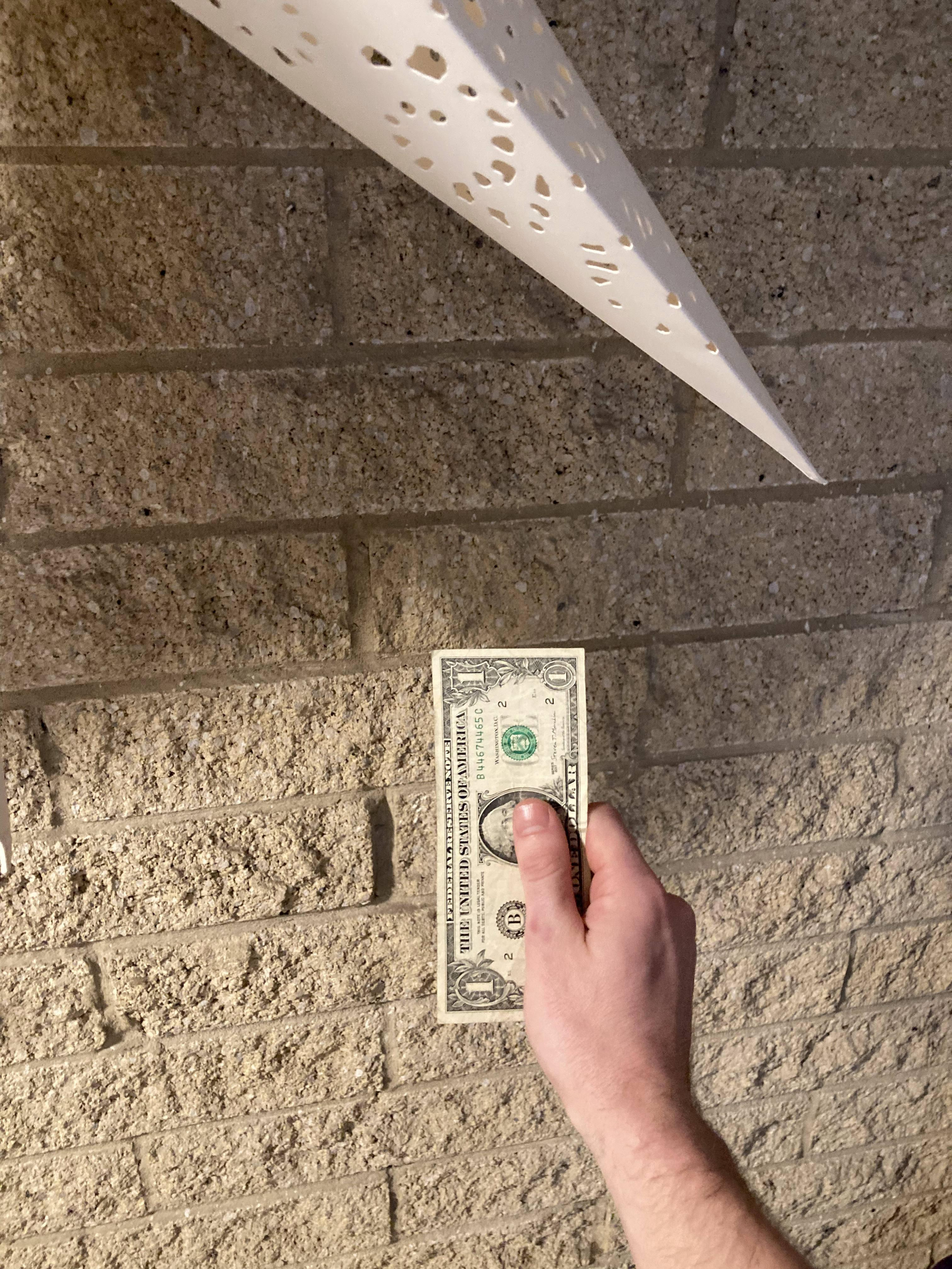one-front: (429, 647, 589, 1025)
